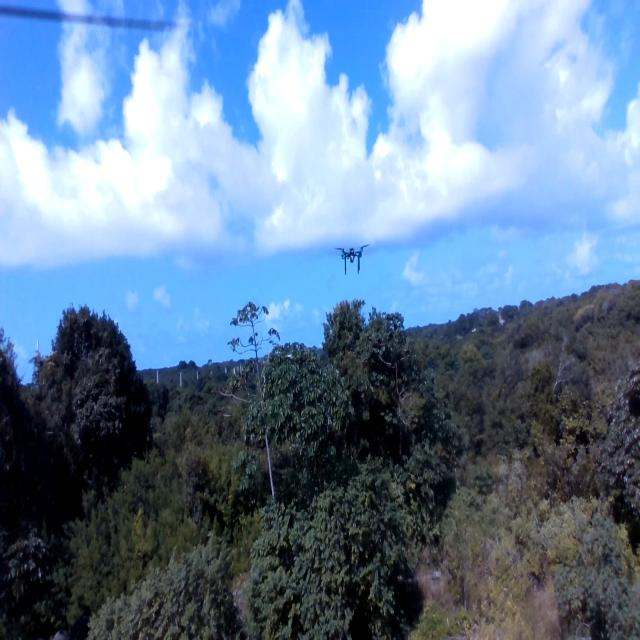-uav-: (330, 234, 376, 279)
